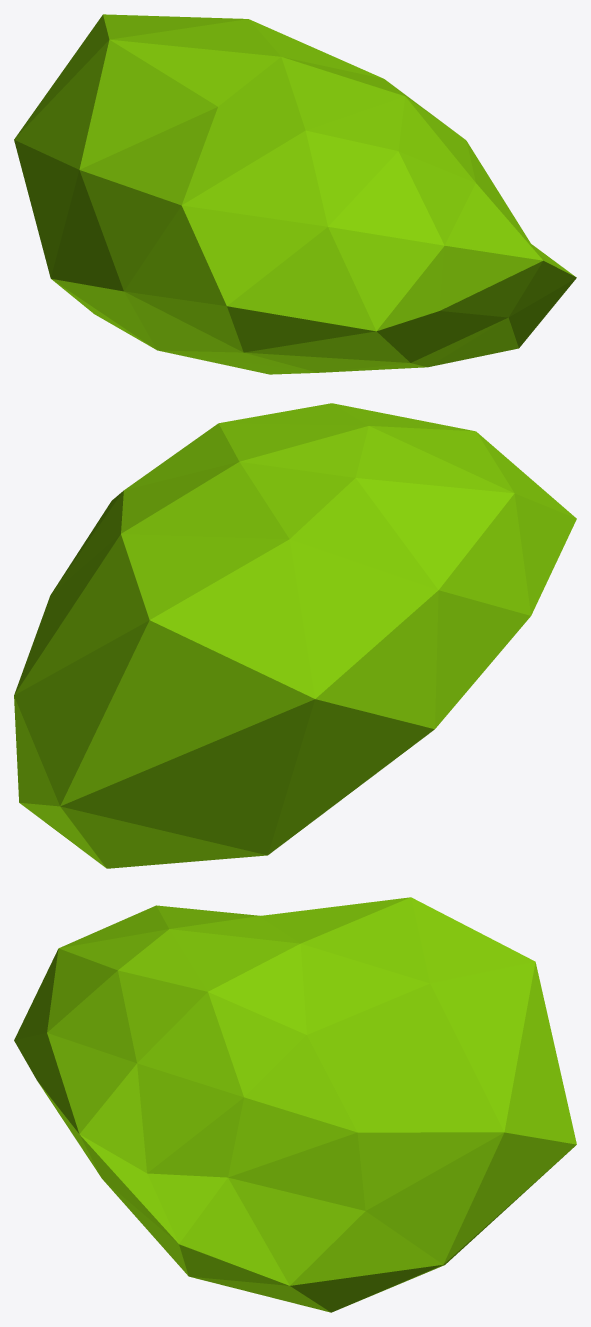
Rendered from lp_tree5_Cube_018.obj.
3 views of the same model, one above another, from view 1: azimuth 30°, elevation 25°; view 2: azimuth 150°, elevation 25°; view 3: azimuth 270°, elevation 25° (orthographic). The views are drawn at different scales.
Parts seen in each view (by area): view 1: lp_tree5_Cube_018; view 2: lp_tree5_Cube_018; view 3: lp_tree5_Cube_018.
Part boxes in pixels (<box>): lp_tree5_Cube_018: <box>14,14,576,374</box>; lp_tree5_Cube_018: <box>14,403,576,868</box>; lp_tree5_Cube_018: <box>14,897,576,1312</box>.
Bounding box in the file's own units: 5.53 × 4.17 × 6.81.
